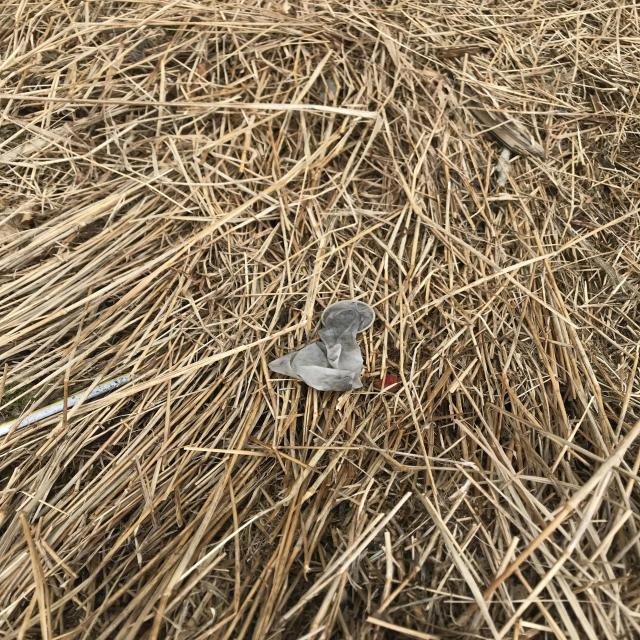Other plastic wrapper: (267, 299, 375, 391)
Plastic straw: (1, 372, 136, 436)
